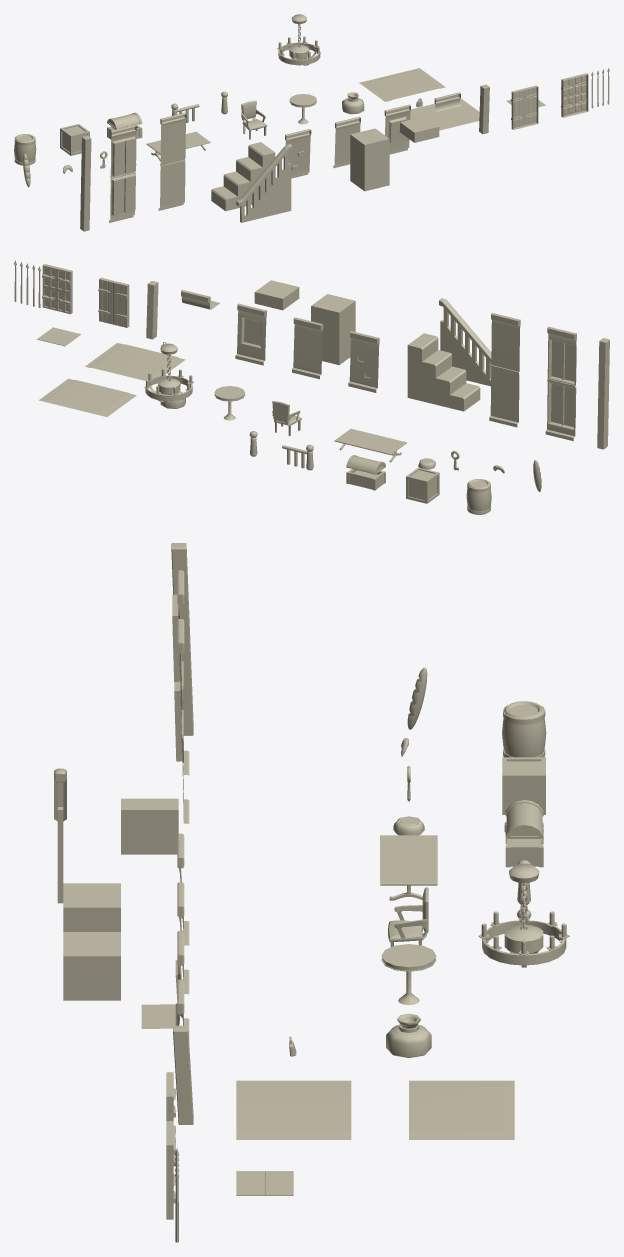
The model's file is AllProps.fbx.
3 renders of one model, top to bottom at view 1: azimuth 30°, elevation 25°; view 2: azimuth 150°, elevation 25°; view 3: azimuth 270°, elevation 25°, orthographic. The views are drawn at different scales.
Parts seen in each view (by area): view 1: StairRail, Window_Wall_Tall, Plain_Wall_Tall, Wall_Filler, StairCase, Rug_End, DoorButton, DoorLocked, Chandalier, Plain_Wall1, Rug_Middle, Wood_Beam1 (+12 smaller); view 2: StairCase, Window_Wall_Tall, Plain_Wall_Tall, StairRail, Wall_Filler, Rug_Middle, Rug_End, Plain_Wall0, Wall_Window, Plain_Wall1, DoorLocked, DoorButton (+15 smaller); view 3: Rug_Middle, Rug_End, Wall_Filler, Chandalier, StairCase, Table, Wall_Filler_Top, Barrel, Crate, Wood_Beam1, Window_Wall_Tall, Wood_Beam (+8 smaller).
Boxes of the visible parts, box(x1,y1,x2,y2) form: StairRail: box(236, 144, 292, 222); Window_Wall_Tall: box(109, 125, 136, 222); Plain_Wall_Tall: box(158, 113, 186, 210); Wall_Filler: box(350, 128, 389, 191); StairCase: box(211, 142, 275, 211); Rug_End: box(359, 68, 445, 101); DoorButton: box(561, 73, 588, 117); DoorLocked: box(511, 85, 538, 129); Chandalier: box(277, 14, 320, 65); Plain_Wall1: box(285, 129, 311, 178); Rug_Middle: box(410, 98, 479, 130); Wood_Beam1: box(80, 135, 91, 231); StairCase: box(407, 333, 480, 411); Window_Wall_Tall: box(545, 326, 576, 441); Plain_Wall_Tall: box(489, 313, 520, 427); StairRail: box(439, 298, 491, 386); Wall_Filler: box(311, 294, 355, 365); Rug_Middle: box(85, 343, 185, 380); Rug_End: box(39, 378, 136, 416); Plain_Wall0: box(292, 317, 323, 379); Wall_Window: box(235, 303, 266, 365); Plain_Wall1: box(348, 331, 379, 392); DoorLocked: box(98, 277, 129, 327); DoorButton: box(42, 264, 72, 314); Rug_Middle: box(236, 1080, 351, 1139); Rug_End: box(409, 1080, 514, 1139); Wall_Filler: box(63, 883, 120, 1000); Chandalier: box(478, 863, 569, 967); StairCase: box(121, 798, 178, 854); Table: box(380, 835, 437, 900); Wall_Filler_Top: box(63, 932, 120, 976); Barrel: box(502, 701, 546, 757); Crate: box(502, 757, 545, 814); Wood_Beam1: box(171, 543, 193, 735); Window_Wall_Tall: box(172, 570, 189, 775); Wood_Beam: box(173, 1025, 193, 1124).
Size of the model in its own units: 21.09 by 3.61 by 8.96.
